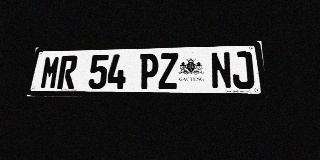4: (106, 54, 127, 89)
5: (88, 55, 109, 89)
J: (231, 51, 255, 89)
M: (39, 56, 61, 89)
N: (210, 52, 232, 89)
P: (138, 53, 159, 89)
R: (57, 55, 78, 89)
Z: (158, 53, 178, 89)
